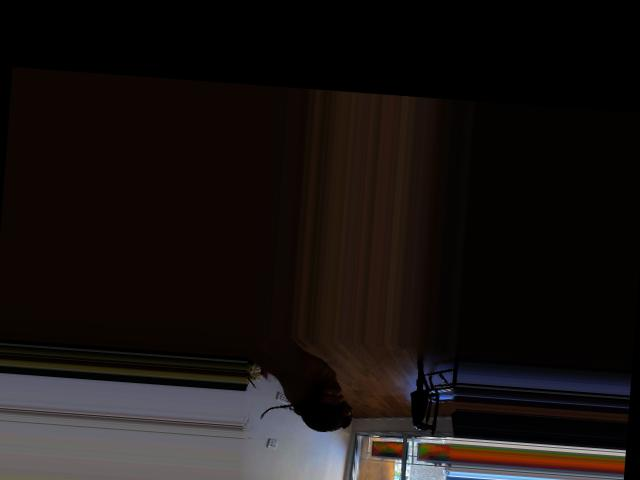beet: (261, 396, 354, 433)
